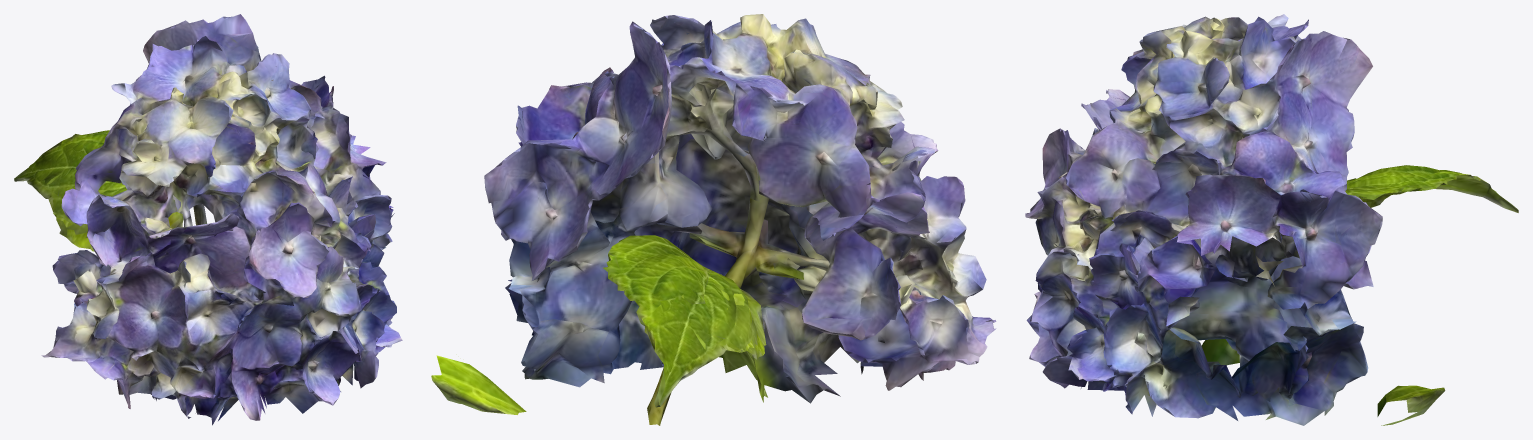
The model's file is hydrangea.glb.
3 views of the same model, side by side, from view 1: azimuth 30°, elevation 25°; view 2: azimuth 150°, elevation 25°; view 3: azimuth 270°, elevation 25° (orthographic). The views are drawn at different scales.
Parts seen in each view (by area): view 1: Object_2; view 2: Object_2; view 3: Object_2.
Part boxes in pixels (x1=…): Object_2: x1=14, y1=14, x2=402, y2=425; Object_2: x1=431, y1=14, x2=996, y2=425; Object_2: x1=1025, y1=14, x2=1518, y2=425.
Size of the model in its own units: 0.6429 by 0.555 by 0.7156.
1 material, 1 textured.
